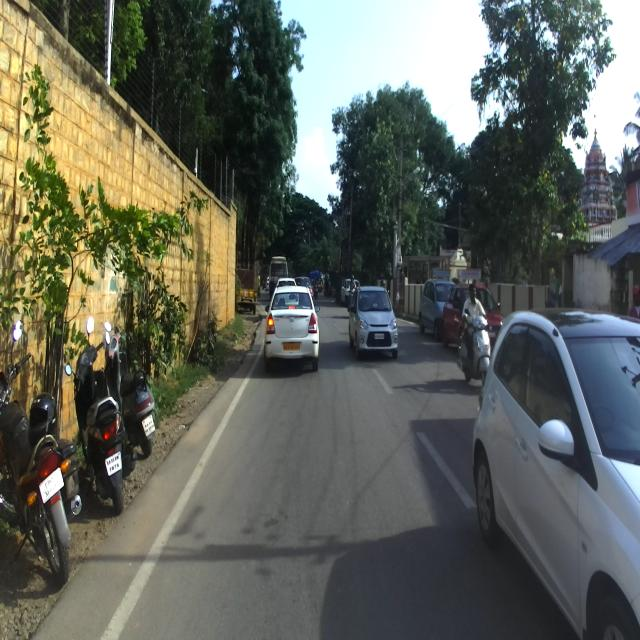car ahead at: (476, 301, 640, 640), (267, 277, 320, 376), (347, 277, 399, 356)
motorcycle ahead at: (0, 360, 70, 600), (69, 321, 126, 506)
